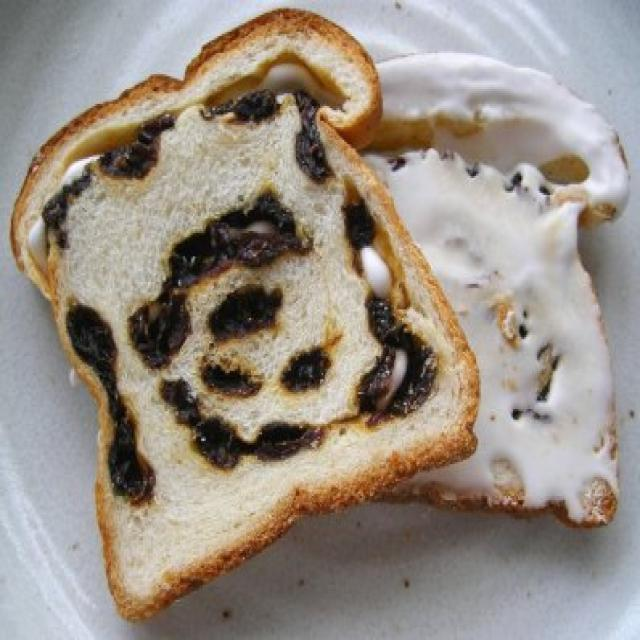面包点心: (0, 12, 479, 640)
